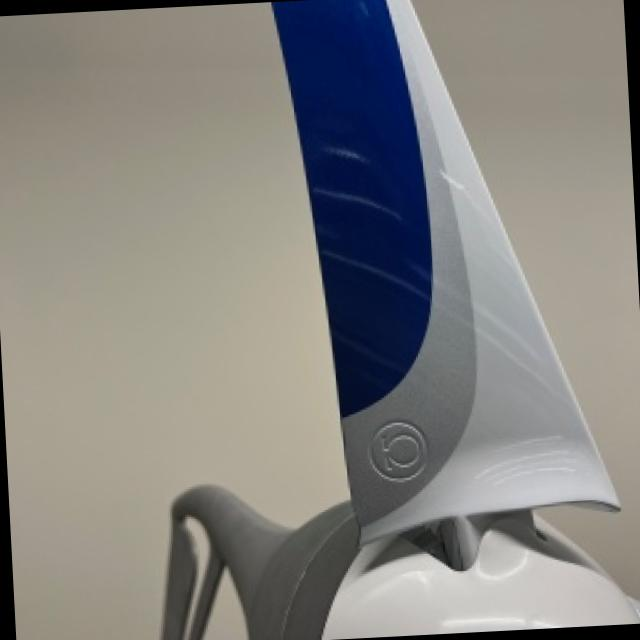healthy: (162, 0, 640, 640)
